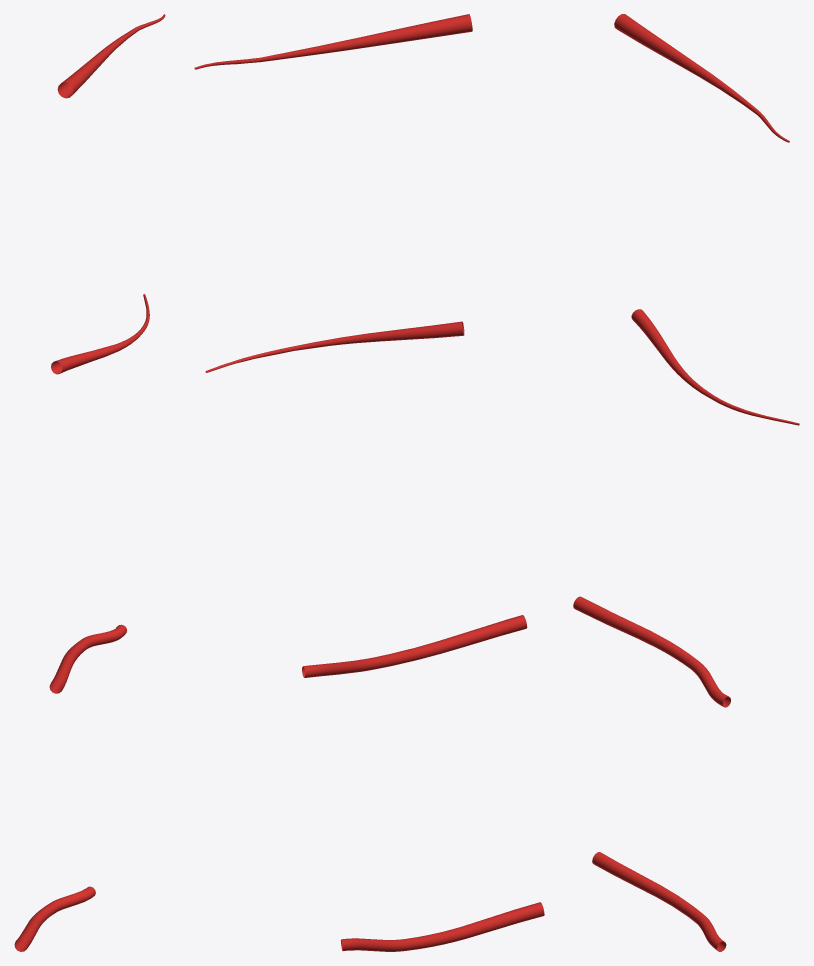
File: circulatorio-perforating-veins-l.glb
3 renders of one model, left to right at view 1: azimuth 30°, elevation 25°; view 2: azimuth 150°, elevation 25°; view 3: azimuth 270°, elevation 25°, orthographic. The views are drawn at different scales.
Visible parts, largest first — view 1: Perforating veins.l; view 2: Perforating veins.l; view 3: Perforating veins.l.
Part boxes in pixels (x1,y1,x2,y2): Perforating veins.l: (14, 14, 165, 951); Perforating veins.l: (194, 14, 544, 951); Perforating veins.l: (573, 14, 799, 951).
Size of the model in its own units: 0.049 by 0.1687 by 0.0384.
